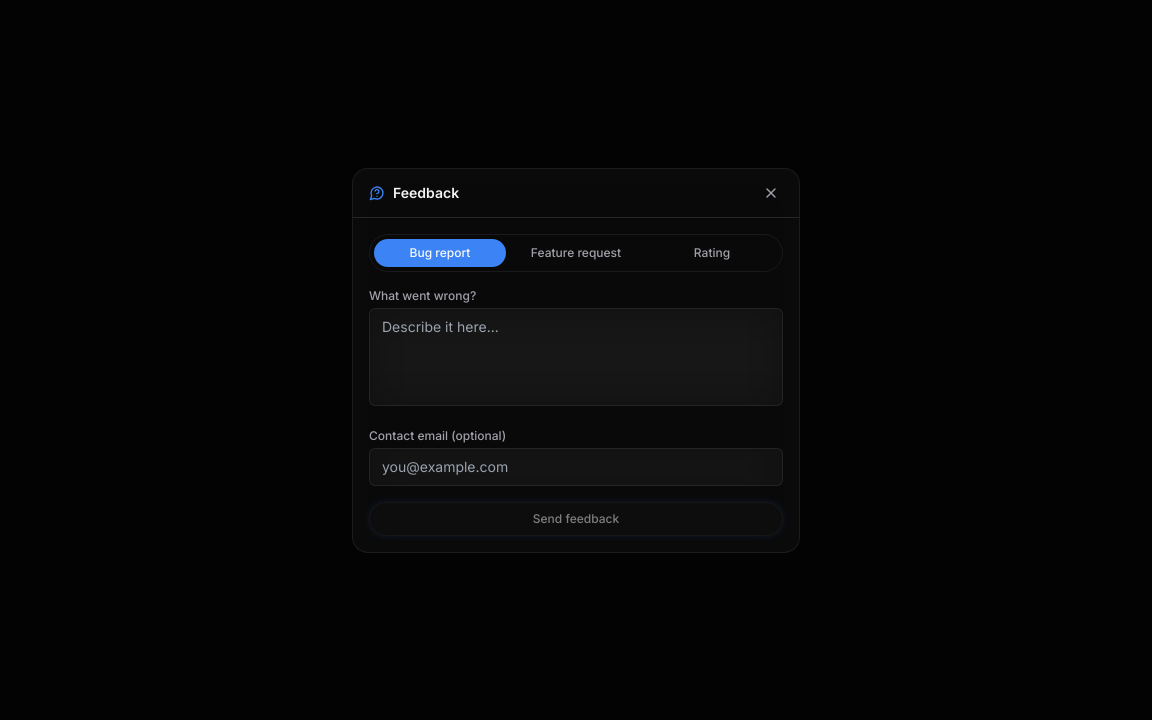
Scenario: FeedbackModal › shows the backend's error message on failure
Type "x" into the text box labelled "What went wrong?".
click(576, 356); type("x")  # box [369,308,783,406]
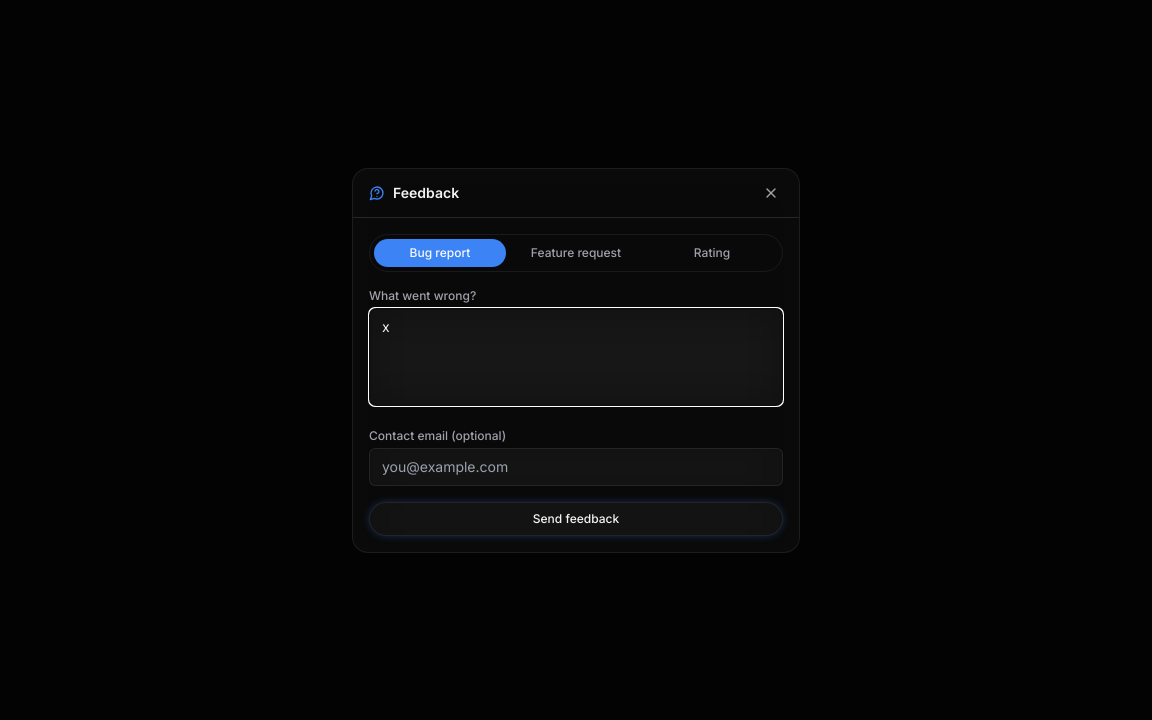
Click the button "Send feedback".
click(576, 518)  # box [369,502,783,536]
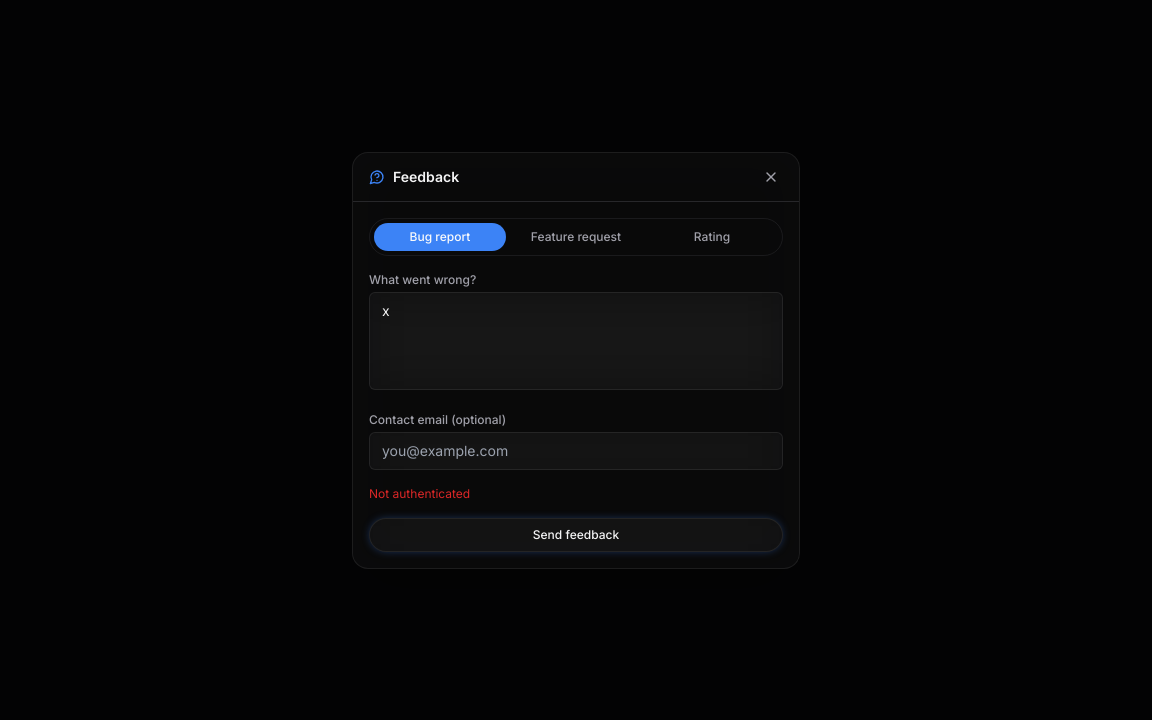
Expected: the text "Not authenticated" is shown, [369,486,470,500]
